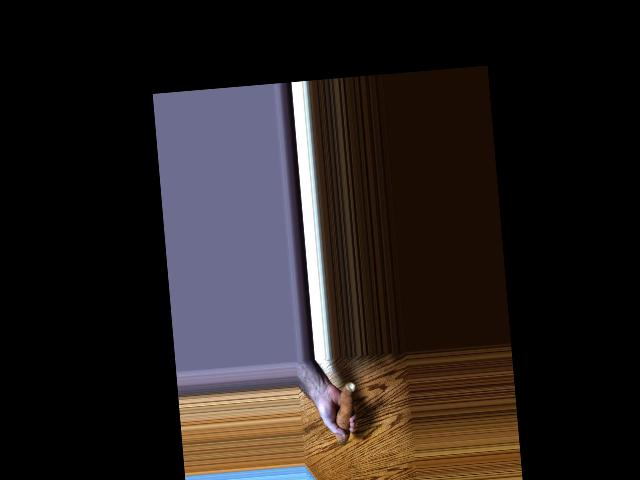sweet_potato: (327, 376, 357, 439)
